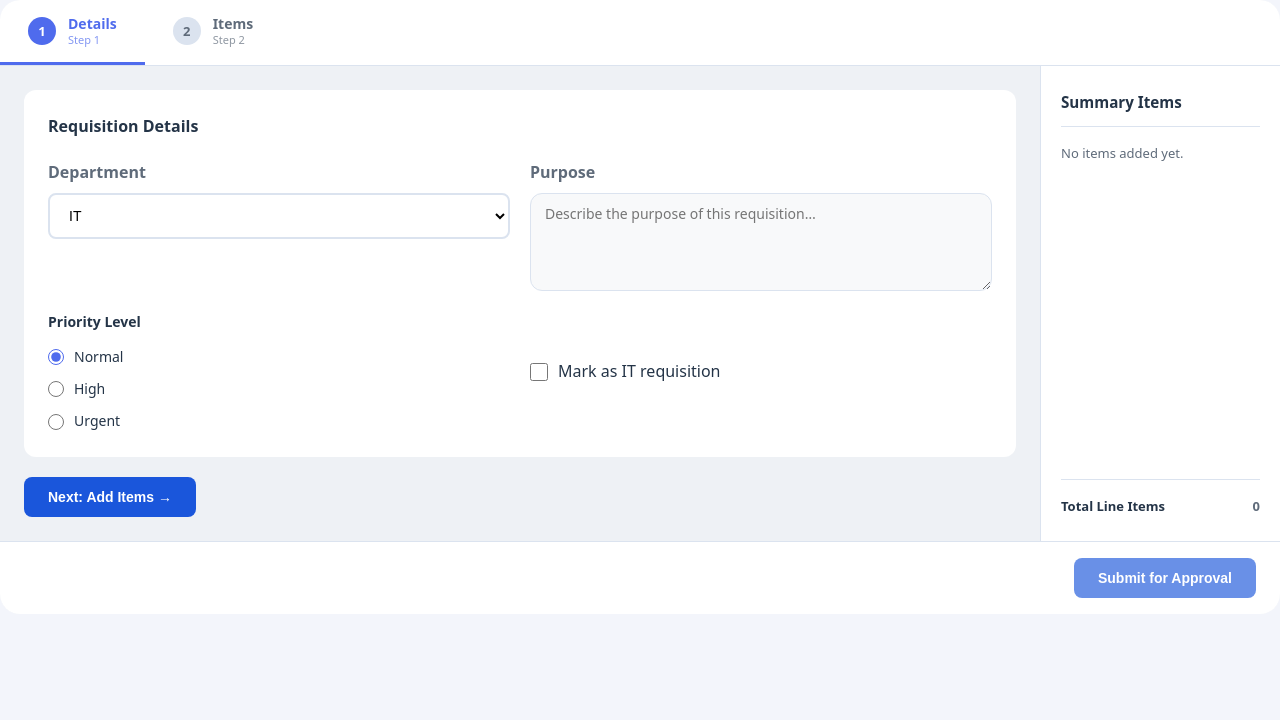
Scenario: RequisitionForm › submits a valid requisition and shows the returned pickup code
Click the button "Next: Add Items →": (110, 497) [24, 477, 196, 517]
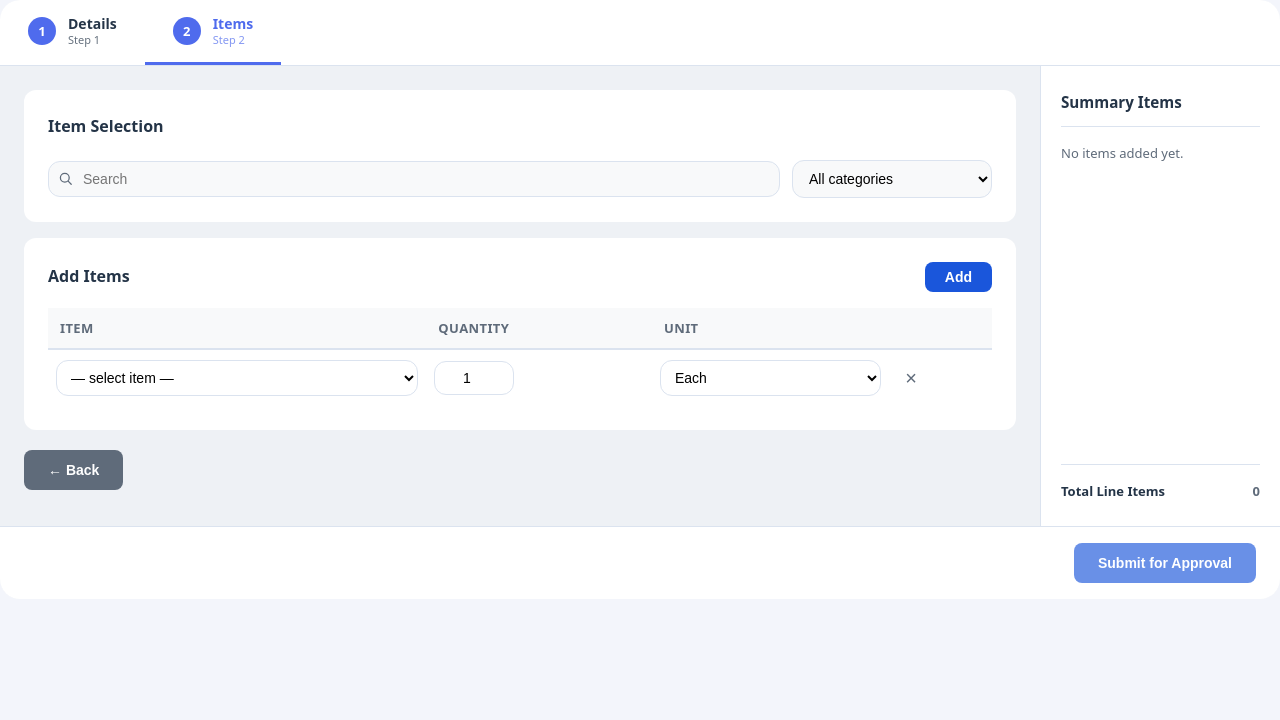
Select "Laptop" in the dropdown named "Select item": (237, 378) [56, 360, 418, 396]
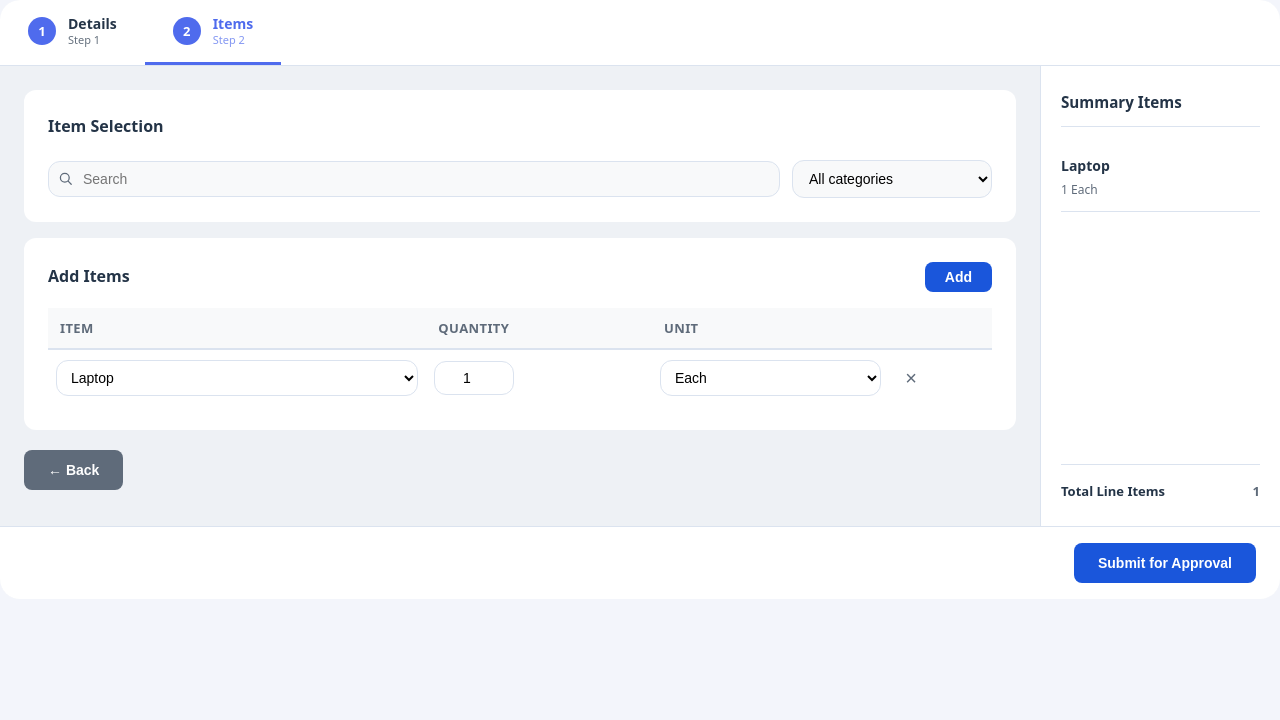
Replace the text in the number field named "Quantity" with "3": (474, 378) [434, 361, 514, 395]
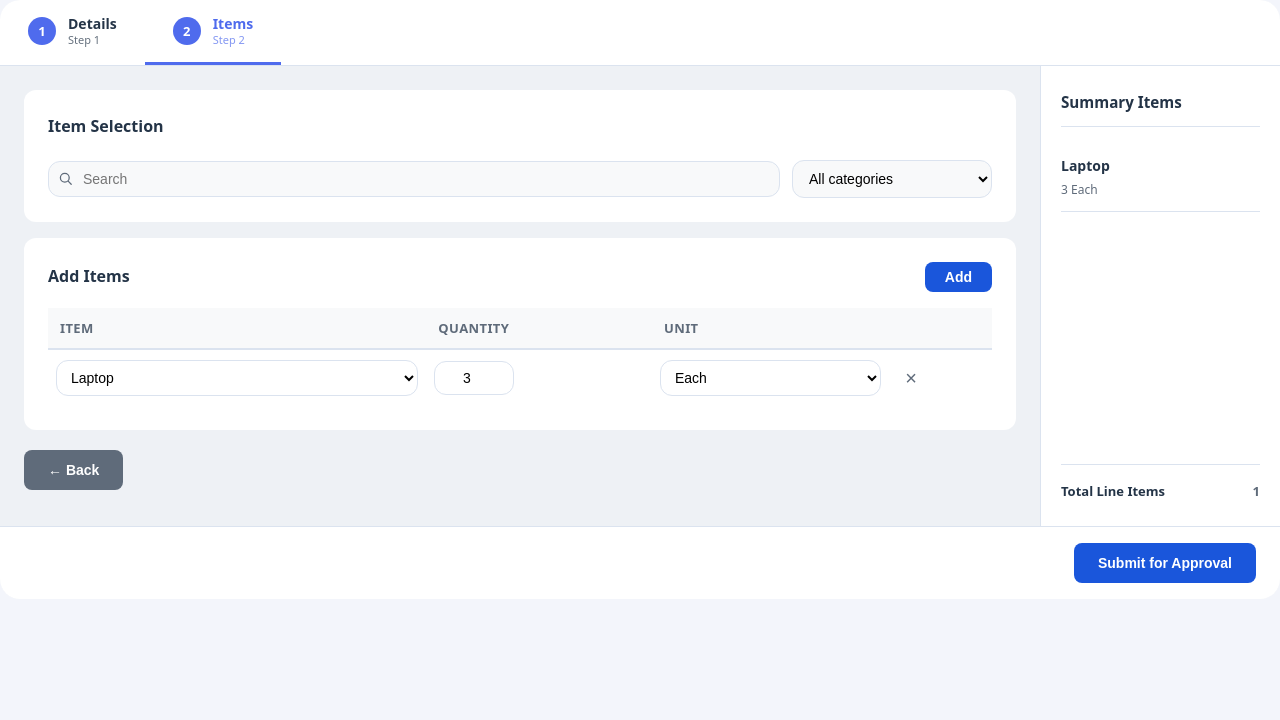
Click the button "Submit for Approval": (1165, 563) [1074, 543, 1256, 583]
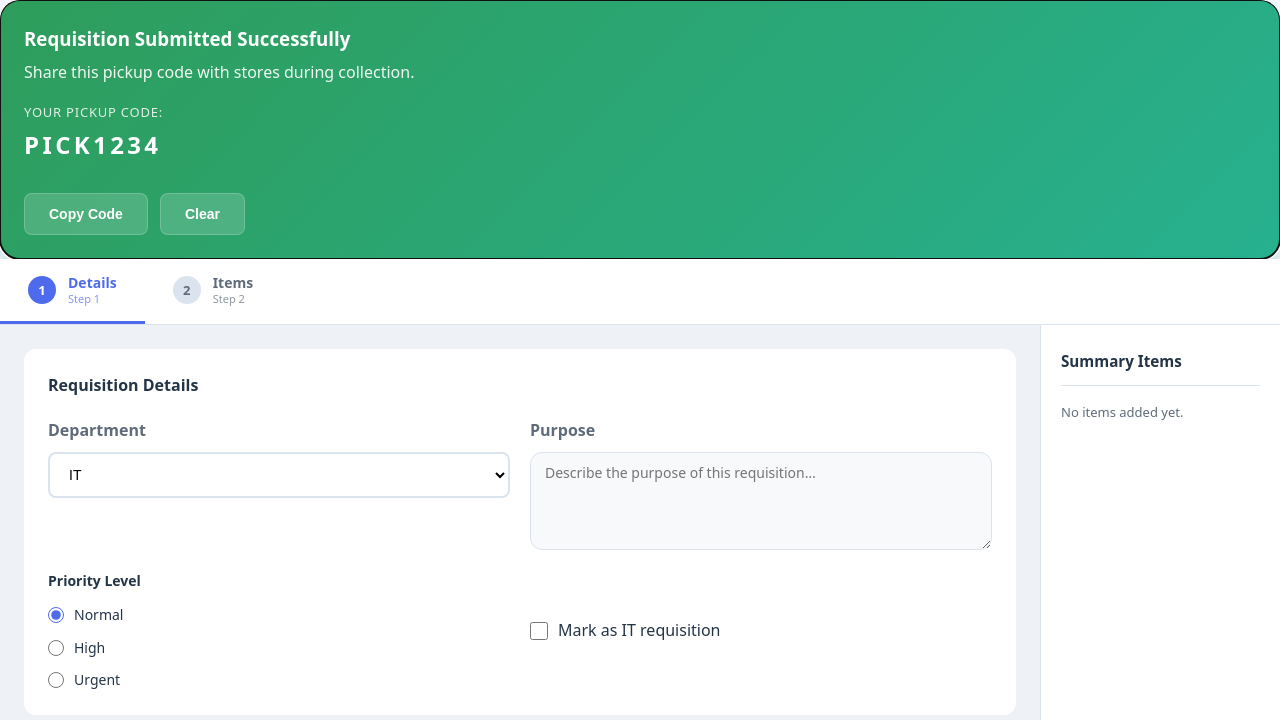
Expected: the text "Your pickup code:" is shown, [24, 102, 163, 120]
Expected: the text "PICK1234" is shown, [24, 128, 161, 161]
Expected: the message shows "Requisition Submitted Successfully", [24, 26, 350, 51]
